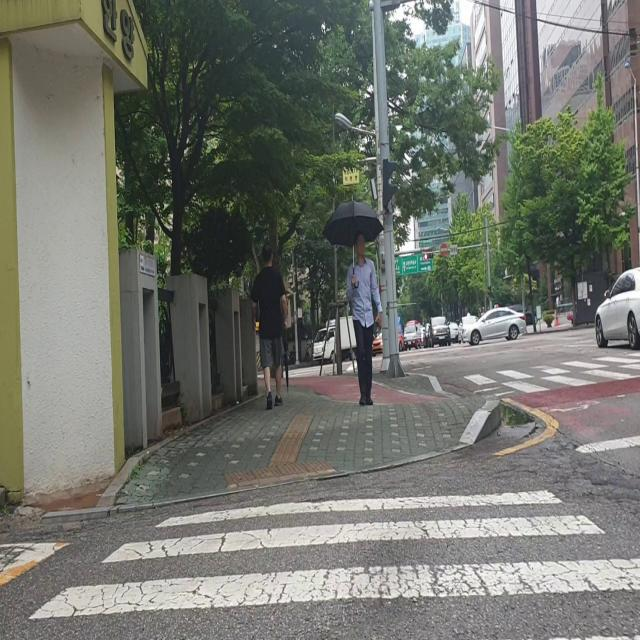횡단보도: (26, 486, 640, 640), (462, 351, 640, 398)
